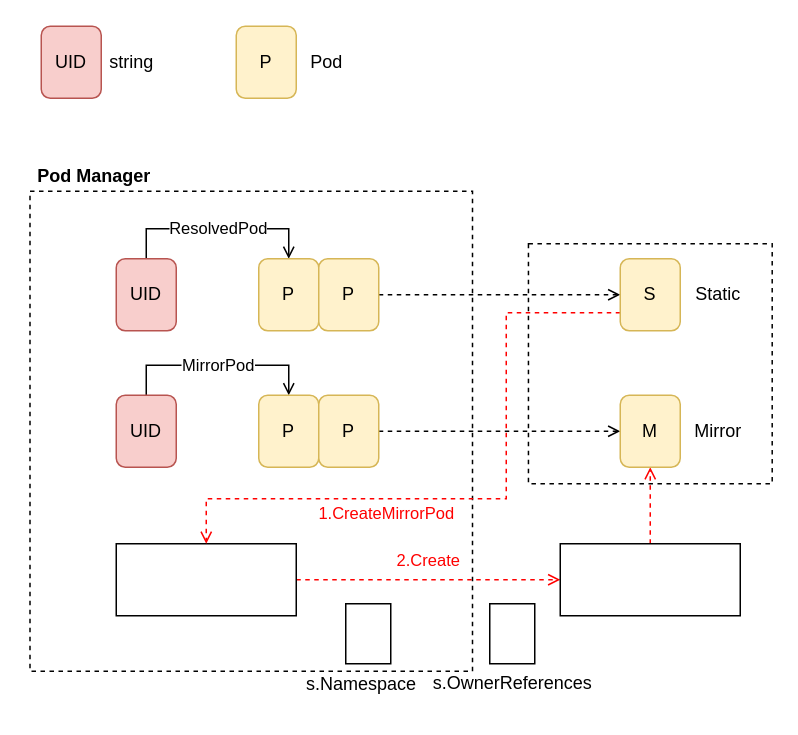
The diagram is 798 pixels wide and 735 high, and some of its shapes have lost their labels. The centre of each missing label's shape, as x and y in pixels:
API Server: the point at 649,579
MirrorClient: the point at 205,579
